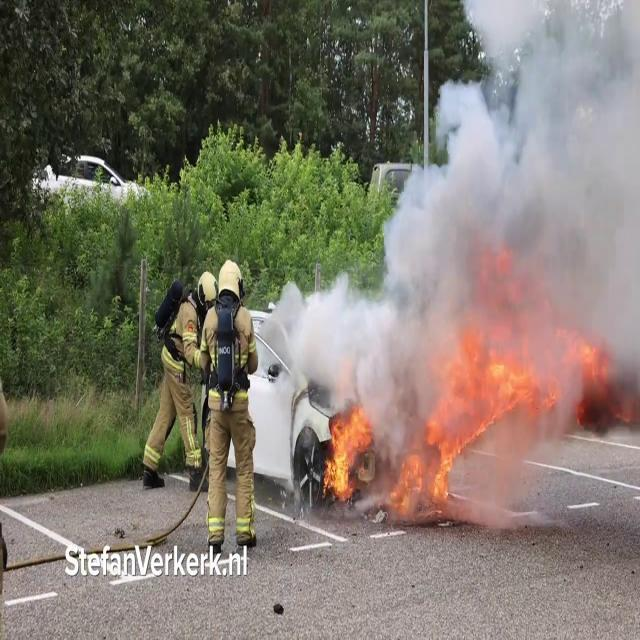Fire: (427, 320, 530, 502), (324, 400, 372, 500)
Smoke: (404, 0, 640, 420), (266, 257, 402, 421)
